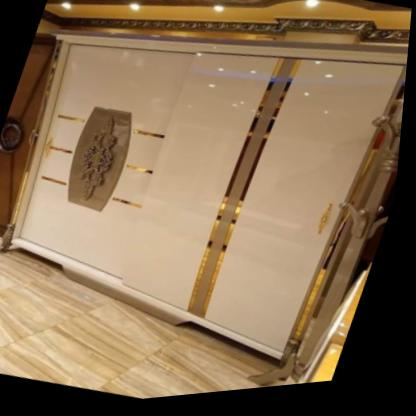Closet: (4, 35, 410, 367)
